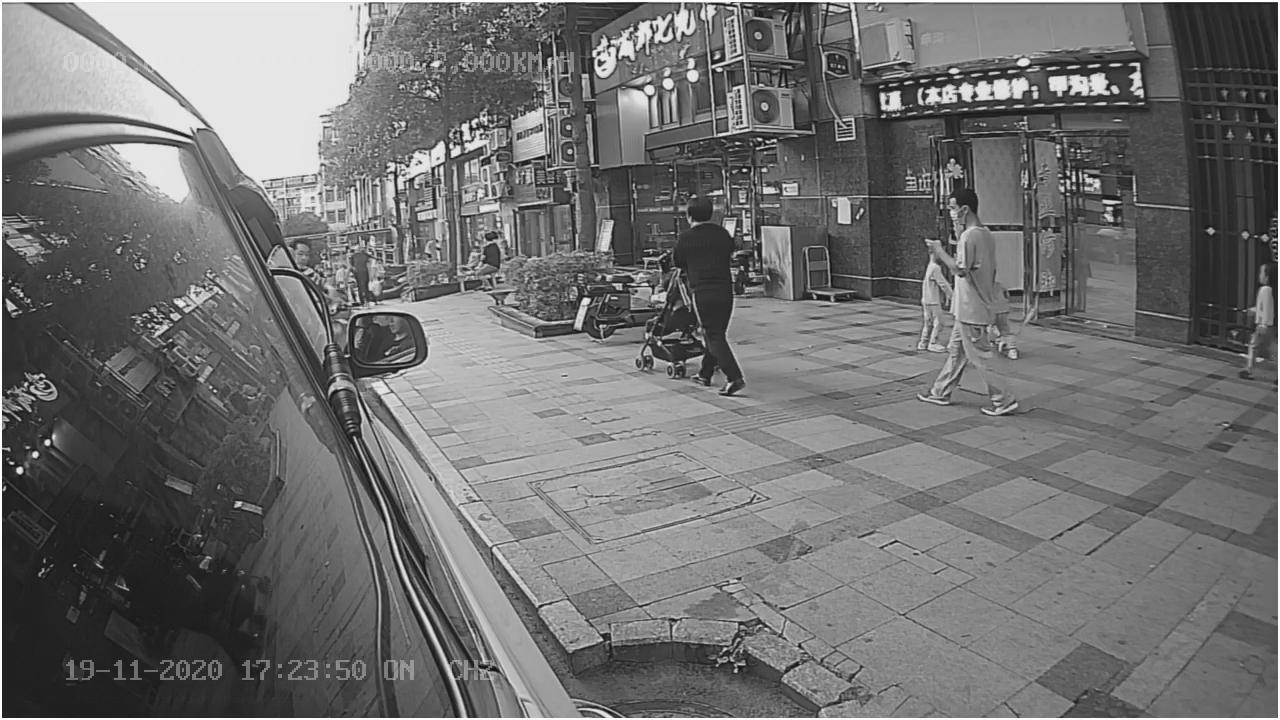person: (931, 188, 1023, 417), (668, 197, 749, 401)
